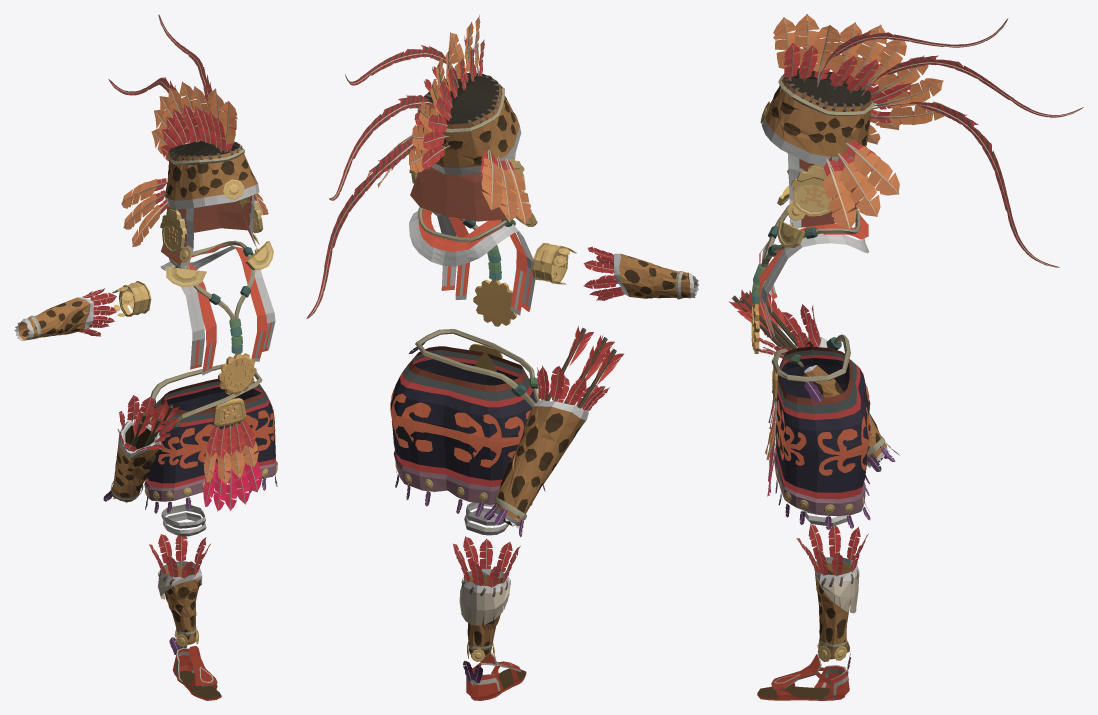
The model's file is aztecWarriorFemale.glb.
3 views of the same model, side by side, from view 1: azimuth 30°, elevation 25°; view 2: azimuth 150°, elevation 25°; view 3: azimuth 270°, elevation 25° (orthographic). The views are drawn at different scales.
Parts seen in each view (by area): view 1: aztecWarriorHat, aztecWarriorBody.001, aztecWarriorQuiver, aztecWarriorBody, aztecWarriorLegGuard, aztecWarriorWristGuard, aztecWarriorBody.002, aztecWarriorSandle, aztecWarriorUpperLegStraps, aztecWarriorArmBrace; view 2: aztecWarriorHat, aztecWarriorBody.001, aztecWarriorQuiver, aztecWarriorBody, aztecWarriorLegGuard, aztecWarriorWristGuard, aztecWarriorBody.002, aztecWarriorSandle, aztecWarriorArmBrace, aztecWarriorUpperLegStraps; view 3: aztecWarriorHat, aztecWarriorBody.001, aztecWarriorQuiver, aztecWarriorLegGuard, aztecWarriorSandle, aztecWarriorBody, aztecWarriorBody.002.
Part boxes in pixels (<box>): aztecWarriorHat: <box>108,14,273,287</box>; aztecWarriorBody.001: <box>144,379,277,513</box>; aztecWarriorQuiver: <box>103,363,262,502</box>; aztecWarriorBody: <box>160,244,275,375</box>; aztecWarriorLegGuard: <box>149,534,211,644</box>; aztecWarriorWristGuard: <box>14,288,116,340</box>; aztecWarriorBody.002: <box>169,240,256,395</box>; aztecWarriorSandle: <box>169,637,221,700</box>; aztecWarriorUpperLegStraps: <box>161,504,206,536</box>; aztecWarriorArmBrace: <box>112,281,151,316</box>; aztecWarriorHat: <box>306,14,537,318</box>; aztecWarriorBody.001: <box>390,344,545,517</box>; aztecWarriorQuiver: <box>409,326,623,537</box>; aztecWarriorBody: <box>409,209,535,315</box>; aztecWarriorLegGuard: <box>452,536,520,658</box>; aztecWarriorWristGuard: <box>583,247,698,300</box>; aztecWarriorBody.002: <box>417,207,516,326</box>; aztecWarriorSandle: <box>463,652,526,700</box>; aztecWarriorArmBrace: <box>532,243,576,284</box>; aztecWarriorUpperLegStraps: <box>464,502,508,535</box>; aztecWarriorHat: <box>760,14,1083,267</box>; aztecWarriorBody.001: <box>765,346,870,529</box>; aztecWarriorQuiver: <box>729,289,899,471</box>; aztecWarriorLegGuard: <box>796,524,868,659</box>; aztecWarriorSandle: <box>757,653,850,700</box>; aztecWarriorBody: <box>759,214,869,341</box>; aztecWarriorBody.002: <box>751,204,860,353</box>.
Bounding box in the file's own units: 1.02 × 2.19 × 1.
